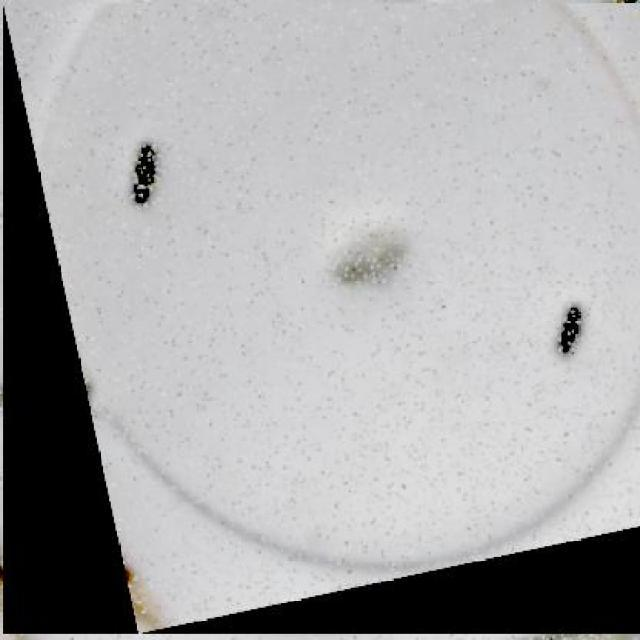Manhole: (3, 3, 640, 634)
